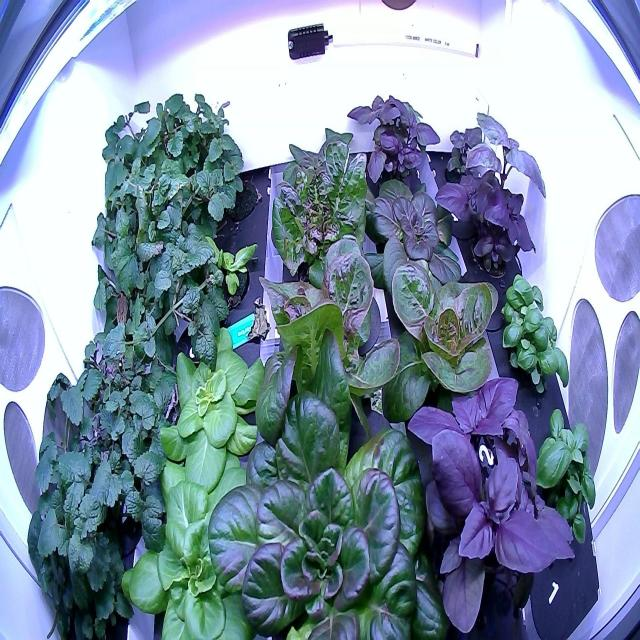Ready: (194, 324, 452, 636)
pod: (219, 171, 263, 226)
young: (238, 228, 409, 452), (117, 446, 286, 637), (372, 228, 511, 440), (154, 324, 273, 492), (260, 129, 377, 282), (360, 153, 470, 302), (195, 227, 262, 315)
